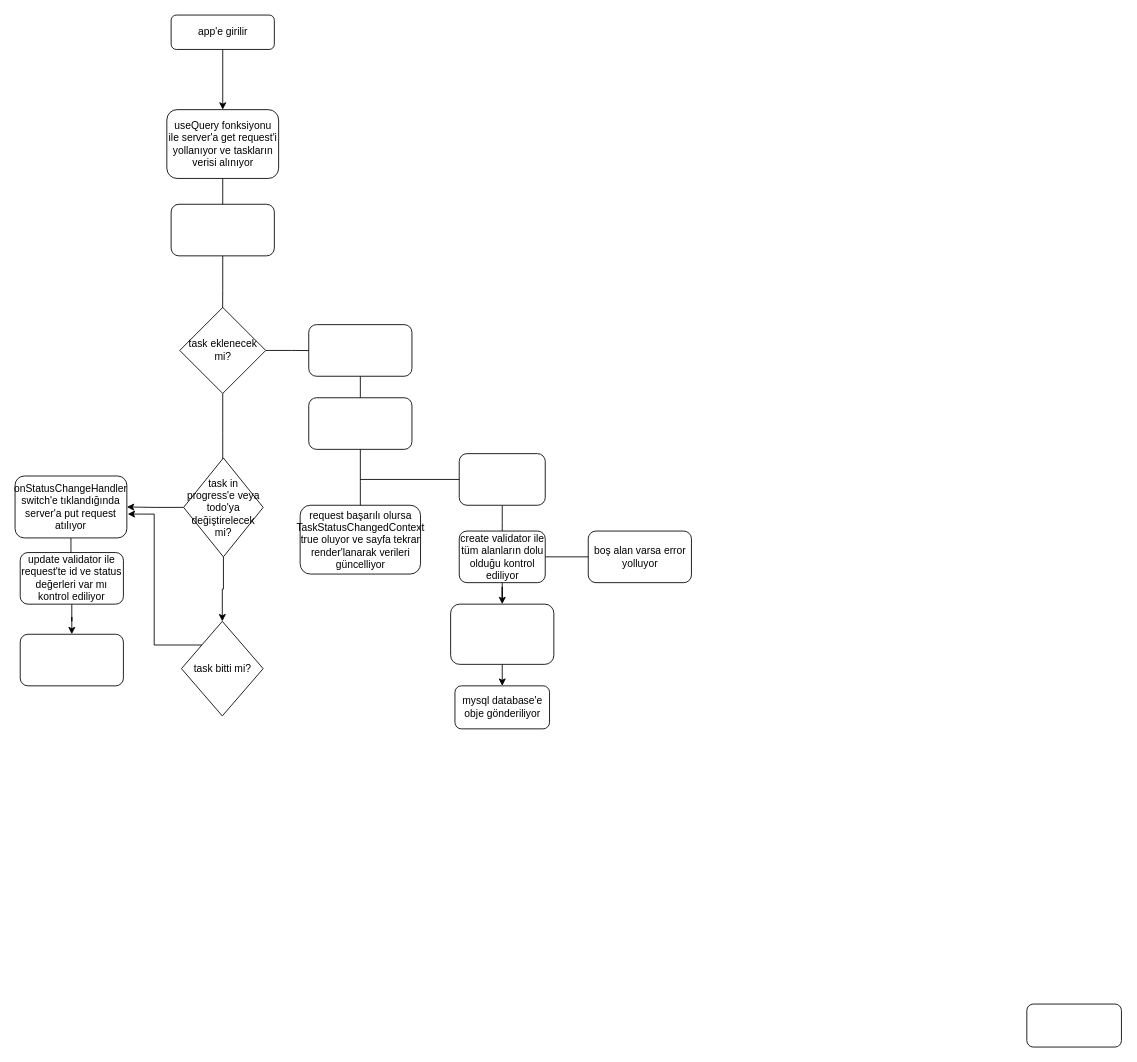
This 1137x1062 diagram has some shape labels left out. Here are the shapes that lost their labels. From the top down, the centre of each, then its label:
At (222,229): "veriye göre task counterlar ve task area doluyor".
At (360,350): "tüm alanların doldurulması bekleniyor".
At (360,423): "düğmeye tıklanınca server'a post request gönderiliyor".
At (501,479): "server request'i alıyor".
At (502,633): "typeorm entity objesi oluşturuluyor ve request'ten gelen alanlarla dolduruluyor".
At (71,659): "değerler doğruysa seçilen objenin status'u değiştirilir".
